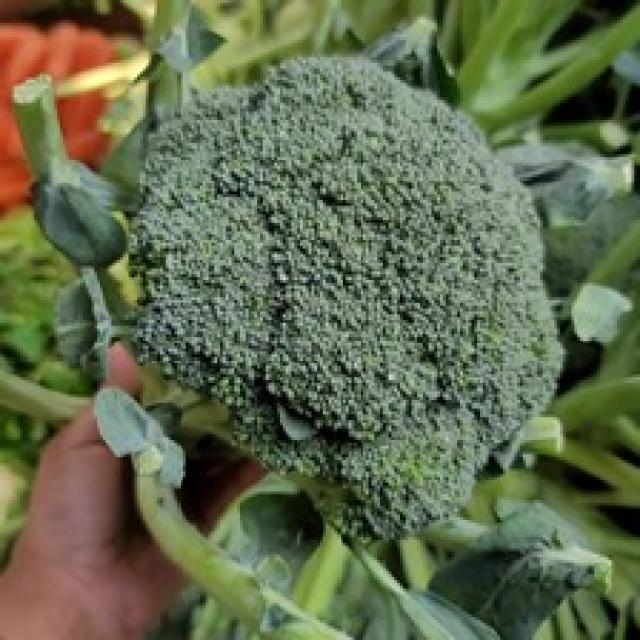Broccoli: (134, 59, 562, 537), (134, 60, 562, 537)
